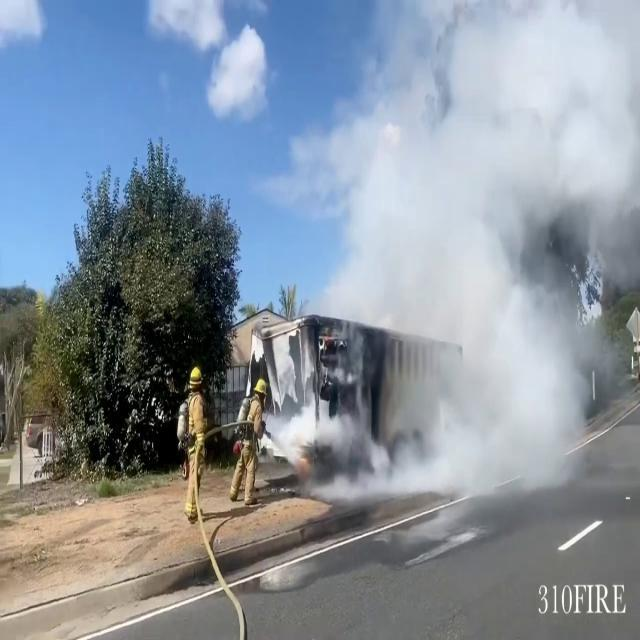Smoke: (292, 0, 638, 518)
